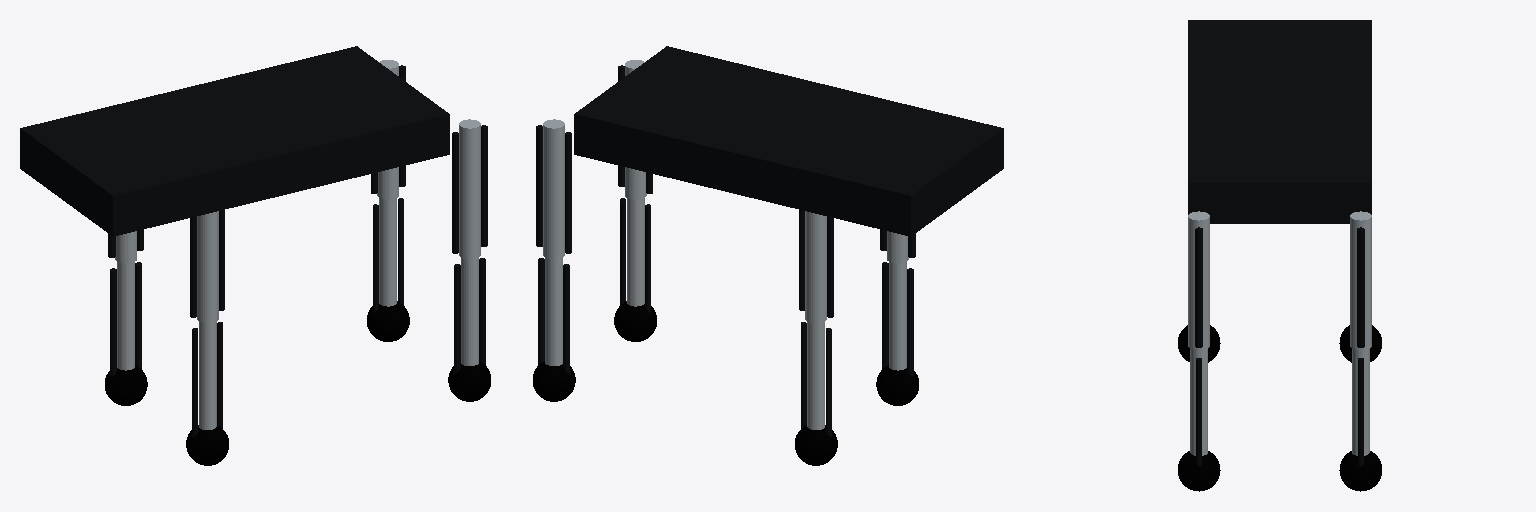
URDF robot description (domino_quadruped_clean):
<?xml version="1.0" ?>
<robot name="domino_quadruped_clean">
  <material name="domino_carbon">
    <color rgba="0.08 0.09 0.10 1.0"/>
  </material>
  <material name="domino_printed">
    <color rgba="0.65 0.68 0.70 1.0"/>
  </material>
  <material name="domino_joint">
    <color rgba="0.15 0.28 0.42 1.0"/>
  </material>
  <material name="domino_foot">
    <color rgba="0.02 0.02 0.02 1.0"/>
  </material>
  <link name="base_link">
    <inertial>
      <origin xyz="0.000000 0.000000 0.000000" rpy="0 0 0"/>
      <mass value="1.200000"/>
      <inertia ixx="0.01000000" ixy="0" ixz="0" iyy="0.02000000" iyz="0" izz="0.02500000"/>
    </inertial>
    <visual>
      <origin xyz="0.000000 0.000000 0.000000" rpy="0 0 0"/>
      <geometry>
        <box size="0.430000 0.205000 0.050000"/>
      </geometry>
      <material name="domino_carbon"/>
    </visual>
    <collision>
      <origin xyz="0.000000 0.000000 0.000000" rpy="0 0 0"/>
      <geometry>
        <box size="0.430000 0.205000 0.050000"/>
      </geometry>
    </collision>
  </link>
  <link name="dom_p_4_1_hip_carriage">
    <inertial>
      <origin xyz="0.000000 0.000000 -0.010000" rpy="0 0 0"/>
      <mass value="0.100000"/>
      <inertia ixx="0.00040000" ixy="0" ixz="0" iyy="0.00040000" iyz="0" izz="0.00040000"/>
    </inertial>
    <visual>
      <origin xyz="0.000000 0.000000 -0.010000" rpy="0 0 0"/>
      <geometry>
        <box size="0.060000 0.055000 0.030000"/>
      </geometry>
      <material name="domino_joint"/>
    </visual>
    <collision>
      <origin xyz="0.000000 0.000000 -0.010000" rpy="0 0 0"/>
      <geometry>
        <box size="0.060000 0.055000 0.030000"/>
      </geometry>
    </collision>
  </link>
  <link name="dom_p_4_1_upper_link">
    <inertial>
      <origin xyz="0.000000 0.000000 -0.080000" rpy="0 0 0"/>
      <mass value="0.120000"/>
      <inertia ixx="0.00050000" ixy="0" ixz="0" iyy="0.00050000" iyz="0" izz="0.00008000"/>
    </inertial>
    <visual>
      <origin xyz="0.000000 0.000000 -0.080000" rpy="0 0 0"/>
      <geometry>
        <cylinder radius="0.012000" length="0.160000"/>
      </geometry>
      <material name="domino_printed"/>
    </visual>
    <visual>
      <origin xyz="0.018000 0.000000 -0.080000" rpy="0 0 0"/>
      <geometry>
        <cylinder radius="0.004000" length="0.145000"/>
      </geometry>
      <material name="domino_carbon"/>
    </visual>
    <visual>
      <origin xyz="-0.018000 0.000000 -0.080000" rpy="0 0 0"/>
      <geometry>
        <cylinder radius="0.004000" length="0.145000"/>
      </geometry>
      <material name="domino_carbon"/>
    </visual>
    <collision>
      <origin xyz="0.000000 0.000000 -0.080000" rpy="0 0 0"/>
      <geometry>
        <cylinder radius="0.014000" length="0.160000"/>
      </geometry>
    </collision>
  </link>
  <link name="dom_p_4_1_lower_link">
    <inertial>
      <origin xyz="0.000000 0.000000 -0.076500" rpy="0 0 0"/>
      <mass value="0.100000"/>
      <inertia ixx="0.00040000" ixy="0" ixz="0" iyy="0.00040000" iyz="0" izz="0.00006000"/>
    </inertial>
    <visual>
      <origin xyz="0.000000 0.000000 -0.076500" rpy="0 0 0"/>
      <geometry>
        <cylinder radius="0.010000" length="0.153000"/>
      </geometry>
      <material name="domino_printed"/>
    </visual>
    <visual>
      <origin xyz="0.016000 0.000000 -0.076500" rpy="0 0 0"/>
      <geometry>
        <cylinder radius="0.003500" length="0.135000"/>
      </geometry>
      <material name="domino_carbon"/>
    </visual>
    <visual>
      <origin xyz="-0.016000 0.000000 -0.076500" rpy="0 0 0"/>
      <geometry>
        <cylinder radius="0.003500" length="0.135000"/>
      </geometry>
      <material name="domino_carbon"/>
    </visual>
    <collision>
      <origin xyz="0.000000 0.000000 -0.076500" rpy="0 0 0"/>
      <geometry>
        <cylinder radius="0.012000" length="0.153000"/>
      </geometry>
    </collision>
  </link>
  <link name="dom_p_4_1_foot">
    <inertial>
      <origin xyz="0.000000 0.000000 0.000000" rpy="0 0 0"/>
      <mass value="0.030000"/>
      <inertia ixx="0.00004000" ixy="0" ixz="0" iyy="0.00004000" iyz="0" izz="0.00004000"/>
    </inertial>
    <visual>
      <origin xyz="0.000000 0.000000 0.000000" rpy="0 0 0"/>
      <geometry>
        <sphere radius="0.024000"/>
      </geometry>
      <material name="domino_foot"/>
    </visual>
    <collision>
      <origin xyz="0.000000 0.000000 0.000000" rpy="0 0 0"/>
      <geometry>
        <sphere radius="0.024000"/>
      </geometry>
    </collision>
  </link>
  <joint name="dom_p_4_1_shoulder_ab_ad" type="revolute">
    <origin xyz="0.167500 -0.062375 0.000000" rpy="0 0 0"/>
    <parent link="base_link"/>
    <child link="dom_p_4_1_hip_carriage"/>
    <axis xyz="-1.000000 0.000000 0.000000"/>
    <limit lower="-0.523599" upper="0.523599" effort="8.0" velocity="6.0"/>
    <dynamics damping="0.05" friction="0.0"/>
  </joint>
  <joint name="dom_p_4_1_upper_pitch" type="revolute">
    <origin xyz="0.080500 -0.028000 0.000000" rpy="0 0 0"/>
    <parent link="dom_p_4_1_hip_carriage"/>
    <child link="dom_p_4_1_upper_link"/>
    <axis xyz="0.000000 1.000000 0.000000"/>
    <limit lower="-0.523599" upper="1.047198" effort="8.0" velocity="6.0"/>
    <dynamics damping="0.05" friction="0.0"/>
  </joint>
  <joint name="dom_p_4_1_lower_linkage" type="revolute">
    <origin xyz="0.000000 0.000000 -0.160000" rpy="0 0 0"/>
    <parent link="dom_p_4_1_upper_link"/>
    <child link="dom_p_4_1_lower_link"/>
    <axis xyz="0.000000 1.000000 0.000000"/>
    <limit lower="-2.094395" upper="0.000000" effort="8.0" velocity="6.0"/>
    <dynamics damping="0.05" friction="0.0"/>
  </joint>
  <joint name="dom_p_4_1_foot_fixed" type="fixed">
    <origin xyz="0.000000 0.000000 -0.153000" rpy="0 0 0"/>
    <parent link="dom_p_4_1_lower_link"/>
    <child link="dom_p_4_1_foot"/>
  </joint>
  <link name="dom_p_12_1_hip_carriage">
    <inertial>
      <origin xyz="0.000000 0.000000 -0.010000" rpy="0 0 0"/>
      <mass value="0.100000"/>
      <inertia ixx="0.00040000" ixy="0" ixz="0" iyy="0.00040000" iyz="0" izz="0.00040000"/>
    </inertial>
    <visual>
      <origin xyz="0.000000 0.000000 -0.010000" rpy="0 0 0"/>
      <geometry>
        <box size="0.060000 0.055000 0.030000"/>
      </geometry>
      <material name="domino_joint"/>
    </visual>
    <collision>
      <origin xyz="0.000000 0.000000 -0.010000" rpy="0 0 0"/>
      <geometry>
        <box size="0.060000 0.055000 0.030000"/>
      </geometry>
    </collision>
  </link>
  <link name="dom_p_12_1_upper_link">
    <inertial>
      <origin xyz="0.000000 0.000000 -0.080000" rpy="0 0 0"/>
      <mass value="0.120000"/>
      <inertia ixx="0.00050000" ixy="0" ixz="0" iyy="0.00050000" iyz="0" izz="0.00008000"/>
    </inertial>
    <visual>
      <origin xyz="0.000000 0.000000 -0.080000" rpy="0 0 0"/>
      <geometry>
        <cylinder radius="0.012000" length="0.160000"/>
      </geometry>
      <material name="domino_printed"/>
    </visual>
    <visual>
      <origin xyz="0.018000 0.000000 -0.080000" rpy="0 0 0"/>
      <geometry>
        <cylinder radius="0.004000" length="0.145000"/>
      </geometry>
      <material name="domino_carbon"/>
    </visual>
    <visual>
      <origin xyz="-0.018000 0.000000 -0.080000" rpy="0 0 0"/>
      <geometry>
        <cylinder radius="0.004000" length="0.145000"/>
      </geometry>
      <material name="domino_carbon"/>
    </visual>
    <collision>
      <origin xyz="0.000000 0.000000 -0.080000" rpy="0 0 0"/>
      <geometry>
        <cylinder radius="0.014000" length="0.160000"/>
      </geometry>
    </collision>
  </link>
  <link name="dom_p_12_1_lower_link">
    <inertial>
      <origin xyz="0.000000 0.000000 -0.076500" rpy="0 0 0"/>
      <mass value="0.100000"/>
      <inertia ixx="0.00040000" ixy="0" ixz="0" iyy="0.00040000" iyz="0" izz="0.00006000"/>
    </inertial>
    <visual>
      <origin xyz="0.000000 0.000000 -0.076500" rpy="0 0 0"/>
      <geometry>
        <cylinder radius="0.010000" length="0.153000"/>
      </geometry>
      <material name="domino_printed"/>
    </visual>
    <visual>
      <origin xyz="0.016000 0.000000 -0.076500" rpy="0 0 0"/>
      <geometry>
        <cylinder radius="0.003500" length="0.135000"/>
      </geometry>
      <material name="domino_carbon"/>
    </visual>
    <visual>
      <origin xyz="-0.016000 0.000000 -0.076500" rpy="0 0 0"/>
      <geometry>
        <cylinder radius="0.003500" length="0.135000"/>
      </geometry>
      <material name="domino_carbon"/>
    </visual>
    <collision>
      <origin xyz="0.000000 0.000000 -0.076500" rpy="0 0 0"/>
      <geometry>
        <cylinder radius="0.012000" length="0.153000"/>
      </geometry>
    </collision>
  </link>
  <link name="dom_p_12_1_foot">
    <inertial>
      <origin xyz="0.000000 0.000000 0.000000" rpy="0 0 0"/>
      <mass value="0.030000"/>
      <inertia ixx="0.00004000" ixy="0" ixz="0" iyy="0.00004000" iyz="0" izz="0.00004000"/>
    </inertial>
    <visual>
      <origin xyz="0.000000 0.000000 0.000000" rpy="0 0 0"/>
      <geometry>
        <sphere radius="0.024000"/>
      </geometry>
      <material name="domino_foot"/>
    </visual>
    <collision>
      <origin xyz="0.000000 0.000000 0.000000" rpy="0 0 0"/>
      <geometry>
        <sphere radius="0.024000"/>
      </geometry>
    </collision>
  </link>
  <joint name="dom_p_12_1_shoulder_ab_ad" type="revolute">
    <origin xyz="0.167500 0.062375 0.000000" rpy="0 0 0"/>
    <parent link="base_link"/>
    <child link="dom_p_12_1_hip_carriage"/>
    <axis xyz="1.000000 0.000000 0.000000"/>
    <limit lower="-0.523599" upper="0.523599" effort="8.0" velocity="6.0"/>
    <dynamics damping="0.05" friction="0.0"/>
  </joint>
  <joint name="dom_p_12_1_upper_pitch" type="revolute">
    <origin xyz="0.080500 0.028000 0.000000" rpy="0 0 0"/>
    <parent link="dom_p_12_1_hip_carriage"/>
    <child link="dom_p_12_1_upper_link"/>
    <axis xyz="0.000000 1.000000 0.000000"/>
    <limit lower="-0.523599" upper="1.047198" effort="8.0" velocity="6.0"/>
    <dynamics damping="0.05" friction="0.0"/>
  </joint>
  <joint name="dom_p_12_1_lower_linkage" type="revolute">
    <origin xyz="0.000000 0.000000 -0.160000" rpy="0 0 0"/>
    <parent link="dom_p_12_1_upper_link"/>
    <child link="dom_p_12_1_lower_link"/>
    <axis xyz="0.000000 1.000000 0.000000"/>
    <limit lower="-2.094395" upper="0.000000" effort="8.0" velocity="6.0"/>
    <dynamics damping="0.05" friction="0.0"/>
  </joint>
  <joint name="dom_p_12_1_foot_fixed" type="fixed">
    <origin xyz="0.000000 0.000000 -0.153000" rpy="0 0 0"/>
    <parent link="dom_p_12_1_lower_link"/>
    <child link="dom_p_12_1_foot"/>
  </joint>
  <link name="dom_p_25_1_hip_carriage">
    <inertial>
      <origin xyz="0.000000 0.000000 -0.010000" rpy="0 0 0"/>
      <mass value="0.100000"/>
      <inertia ixx="0.00040000" ixy="0" ixz="0" iyy="0.00040000" iyz="0" izz="0.00040000"/>
    </inertial>
    <visual>
      <origin xyz="0.000000 0.000000 -0.010000" rpy="0 0 0"/>
      <geometry>
        <box size="0.060000 0.055000 0.030000"/>
      </geometry>
      <material name="domino_joint"/>
    </visual>
    <collision>
      <origin xyz="0.000000 0.000000 -0.010000" rpy="0 0 0"/>
      <geometry>
        <box size="0.060000 0.055000 0.030000"/>
      </geometry>
    </collision>
  </link>
  <link name="dom_p_25_1_upper_link">
    <inertial>
      <origin xyz="0.000000 0.000000 -0.080000" rpy="0 0 0"/>
      <mass value="0.120000"/>
      <inertia ixx="0.00050000" ixy="0" ixz="0" iyy="0.00050000" iyz="0" izz="0.00008000"/>
    </inertial>
    <visual>
      <origin xyz="0.000000 0.000000 -0.080000" rpy="0 0 0"/>
      <geometry>
        <cylinder radius="0.012000" length="0.160000"/>
      </geometry>
      <material name="domino_printed"/>
    </visual>
    <visual>
      <origin xyz="0.018000 0.000000 -0.080000" rpy="0 0 0"/>
      <geometry>
        <cylinder radius="0.004000" length="0.145000"/>
      </geometry>
      <material name="domino_carbon"/>
    </visual>
    <visual>
      <origin xyz="-0.018000 0.000000 -0.080000" rpy="0 0 0"/>
      <geometry>
        <cylinder radius="0.004000" length="0.145000"/>
      </geometry>
      <material name="domino_carbon"/>
    </visual>
    <collision>
      <origin xyz="0.000000 0.000000 -0.080000" rpy="0 0 0"/>
      <geometry>
        <cylinder radius="0.014000" length="0.160000"/>
      </geometry>
    </collision>
  </link>
  <link name="dom_p_25_1_lower_link">
    <inertial>
      <origin xyz="0.000000 0.000000 -0.076500" rpy="0 0 0"/>
      <mass value="0.100000"/>
      <inertia ixx="0.00040000" ixy="0" ixz="0" iyy="0.00040000" iyz="0" izz="0.00006000"/>
    </inertial>
    <visual>
      <origin xyz="0.000000 0.000000 -0.076500" rpy="0 0 0"/>
      <geometry>
        <cylinder radius="0.010000" length="0.153000"/>
      </geometry>
      <material name="domino_printed"/>
    </visual>
    <visual>
      <origin xyz="0.016000 0.000000 -0.076500" rpy="0 0 0"/>
      <geometry>
        <cylinder radius="0.003500" length="0.135000"/>
      </geometry>
      <material name="domino_carbon"/>
    </visual>
    <visual>
      <origin xyz="-0.016000 0.000000 -0.076500" rpy="0 0 0"/>
      <geometry>
        <cylinder radius="0.003500" length="0.135000"/>
      </geometry>
      <material name="domino_carbon"/>
    </visual>
    <collision>
      <origin xyz="0.000000 0.000000 -0.076500" rpy="0 0 0"/>
      <geometry>
        <cylinder radius="0.012000" length="0.153000"/>
      </geometry>
    </collision>
  </link>
  <link name="dom_p_25_1_foot">
    <inertial>
      <origin xyz="0.000000 0.000000 0.000000" rpy="0 0 0"/>
      <mass value="0.030000"/>
      <inertia ixx="0.00004000" ixy="0" ixz="0" iyy="0.00004000" iyz="0" izz="0.00004000"/>
    </inertial>
    <visual>
      <origin xyz="0.000000 0.000000 0.000000" rpy="0 0 0"/>
      <geometry>
        <sphere radius="0.024000"/>
      </geometry>
      <material name="domino_foot"/>
    </visual>
    <collision>
      <origin xyz="0.000000 0.000000 0.000000" rpy="0 0 0"/>
      <geometry>
        <sphere radius="0.024000"/>
      </geometry>
    </collision>
  </link>
  <joint name="dom_p_25_1_shoulder_ab_ad" type="revolute">
    <origin xyz="-0.167500 0.062375 0.000000" rpy="0 0 0"/>
    <parent link="base_link"/>
    <child link="dom_p_25_1_hip_carriage"/>
    <axis xyz="1.000000 0.000000 0.000000"/>
    <limit lower="-0.523599" upper="0.523599" effort="8.0" velocity="6.0"/>
    <dynamics damping="0.05" friction="0.0"/>
  </joint>
  <joint name="dom_p_25_1_upper_pitch" type="revolute">
    <origin xyz="0.080500 0.028000 0.000000" rpy="0 0 0"/>
    <parent link="dom_p_25_1_hip_carriage"/>
    <child link="dom_p_25_1_upper_link"/>
    <axis xyz="0.000000 1.000000 0.000000"/>
    <limit lower="-0.523599" upper="1.047198" effort="8.0" velocity="6.0"/>
    <dynamics damping="0.05" friction="0.0"/>
  </joint>
  <joint name="dom_p_25_1_lower_linkage" type="revolute">
    <origin xyz="0.000000 0.000000 -0.160000" rpy="0 0 0"/>
    <parent link="dom_p_25_1_upper_link"/>
    <child link="dom_p_25_1_lower_link"/>
    <axis xyz="0.000000 1.000000 0.000000"/>
    <limit lower="-2.094395" upper="0.000000" effort="8.0" velocity="6.0"/>
    <dynamics damping="0.05" friction="0.0"/>
  </joint>
  <joint name="dom_p_25_1_foot_fixed" type="fixed">
    <origin xyz="0.000000 0.000000 -0.153000" rpy="0 0 0"/>
    <parent link="dom_p_25_1_lower_link"/>
    <child link="dom_p_25_1_foot"/>
  </joint>
  <link name="dom_p_21_1_hip_carriage">
    <inertial>
      <origin xyz="0.000000 0.000000 -0.010000" rpy="0 0 0"/>
      <mass value="0.100000"/>
      <inertia ixx="0.00040000" ixy="0" ixz="0" iyy="0.00040000" iyz="0" izz="0.00040000"/>
    </inertial>
    <visual>
      <origin xyz="0.000000 0.000000 -0.010000" rpy="0 0 0"/>
      <geometry>
        <box size="0.060000 0.055000 0.030000"/>
      </geometry>
      <material name="domino_joint"/>
    </visual>
    <collision>
      <origin xyz="0.000000 0.000000 -0.010000" rpy="0 0 0"/>
      <geometry>
        <box size="0.060000 0.055000 0.030000"/>
      </geometry>
    </collision>
  </link>
  <link name="dom_p_21_1_upper_link">
    <inertial>
      <origin xyz="0.000000 0.000000 -0.080000" rpy="0 0 0"/>
      <mass value="0.120000"/>
      <inertia ixx="0.00050000" ixy="0" ixz="0" iyy="0.00050000" iyz="0" izz="0.00008000"/>
    </inertial>
    <visual>
      <origin xyz="0.000000 0.000000 -0.080000" rpy="0 0 0"/>
      <geometry>
        <cylinder radius="0.012000" length="0.160000"/>
      </geometry>
      <material name="domino_printed"/>
    </visual>
    <visual>
      <origin xyz="0.018000 0.000000 -0.080000" rpy="0 0 0"/>
      <geometry>
        <cylinder radius="0.004000" length="0.145000"/>
      </geometry>
      <material name="domino_carbon"/>
    </visual>
    <visual>
      <origin xyz="-0.018000 0.000000 -0.080000" rpy="0 0 0"/>
      <geometry>
        <cylinder radius="0.004000" length="0.145000"/>
      </geometry>
      <material name="domino_carbon"/>
    </visual>
    <collision>
      <origin xyz="0.000000 0.000000 -0.080000" rpy="0 0 0"/>
      <geometry>
        <cylinder radius="0.014000" length="0.160000"/>
      </geometry>
    </collision>
  </link>
  <link name="dom_p_21_1_lower_link">
    <inertial>
      <origin xyz="0.000000 0.000000 -0.076500" rpy="0 0 0"/>
      <mass value="0.100000"/>
      <inertia ixx="0.00040000" ixy="0" ixz="0" iyy="0.00040000" iyz="0" izz="0.00006000"/>
    </inertial>
    <visual>
      <origin xyz="0.000000 0.000000 -0.076500" rpy="0 0 0"/>
      <geometry>
        <cylinder radius="0.010000" length="0.153000"/>
      </geometry>
      <material name="domino_printed"/>
    </visual>
    <visual>
      <origin xyz="0.016000 0.000000 -0.076500" rpy="0 0 0"/>
      <geometry>
        <cylinder radius="0.003500" length="0.135000"/>
      </geometry>
      <material name="domino_carbon"/>
    </visual>
    <visual>
      <origin xyz="-0.016000 0.000000 -0.076500" rpy="0 0 0"/>
      <geometry>
        <cylinder radius="0.003500" length="0.135000"/>
      </geometry>
      <material name="domino_carbon"/>
    </visual>
    <collision>
      <origin xyz="0.000000 0.000000 -0.076500" rpy="0 0 0"/>
      <geometry>
        <cylinder radius="0.012000" length="0.153000"/>
      </geometry>
    </collision>
  </link>
  <link name="dom_p_21_1_foot">
    <inertial>
      <origin xyz="0.000000 0.000000 0.000000" rpy="0 0 0"/>
      <mass value="0.030000"/>
      <inertia ixx="0.00004000" ixy="0" ixz="0" iyy="0.00004000" iyz="0" izz="0.00004000"/>
    </inertial>
    <visual>
      <origin xyz="0.000000 0.000000 0.000000" rpy="0 0 0"/>
      <geometry>
        <sphere radius="0.024000"/>
      </geometry>
      <material name="domino_foot"/>
    </visual>
    <collision>
      <origin xyz="0.000000 0.000000 0.000000" rpy="0 0 0"/>
      <geometry>
        <sphere radius="0.024000"/>
      </geometry>
    </collision>
  </link>
  <joint name="dom_p_21_1_shoulder_ab_ad" type="revolute">
    <origin xyz="-0.167500 -0.062375 0.000000" rpy="0 0 0"/>
    <parent link="base_link"/>
    <child link="dom_p_21_1_hip_carriage"/>
    <axis xyz="-1.000000 0.000000 0.000000"/>
    <limit lower="-0.523599" upper="0.523599" effort="8.0" velocity="6.0"/>
    <dynamics damping="0.05" friction="0.0"/>
  </joint>
  <joint name="dom_p_21_1_upper_pitch" type="revolute">
    <origin xyz="0.080500 -0.028000 0.000000" rpy="0 0 0"/>
    <parent link="dom_p_21_1_hip_carriage"/>
    <child link="dom_p_21_1_upper_link"/>
    <axis xyz="0.000000 1.000000 0.000000"/>
    <limit lower="-0.523599" upper="1.047198" effort="8.0" velocity="6.0"/>
    <dynamics damping="0.05" friction="0.0"/>
  </joint>
  <joint name="dom_p_21_1_lower_linkage" type="revolute">
    <origin xyz="0.000000 0.000000 -0.160000" rpy="0 0 0"/>
    <parent link="dom_p_21_1_upper_link"/>
    <child link="dom_p_21_1_lower_link"/>
    <axis xyz="0.000000 1.000000 0.000000"/>
    <limit lower="-0.523599" upper="1.570796" effort="8.0" velocity="6.0"/>
    <dynamics damping="0.05" friction="0.0"/>
  </joint>
  <joint name="dom_p_21_1_foot_fixed" type="fixed">
    <origin xyz="0.000000 0.000000 -0.153000" rpy="0 0 0"/>
    <parent link="dom_p_21_1_lower_link"/>
    <child link="dom_p_21_1_foot"/>
  </joint>
</robot>

--- Facts derived from the render (not from the file) ---
The picture shows the robot from 3 angles, left to right: view 1: azimuth 30°, elevation 25°; view 2: azimuth 150°, elevation 25°; view 3: azimuth 270°, elevation 25°; orthographic projection.
Robot: domino_quadruped_clean — 17 links, 16 joints (12 revolute, 4 fixed); root link base_link; default pose: all joints at 0.
Links seen in each view (by area): view 1: base_link, dom_p_4_1_upper_link, dom_p_21_1_upper_link, dom_p_4_1_lower_link, dom_p_25_1_lower_link, dom_p_21_1_lower_link, dom_p_12_1_lower_link, dom_p_12_1_foot, dom_p_21_1_foot, dom_p_25_1_foot, dom_p_4_1_foot, dom_p_12_1_upper_link (+1 smaller); view 2: base_link, dom_p_12_1_upper_link, dom_p_25_1_upper_link, dom_p_12_1_lower_link, dom_p_21_1_lower_link, dom_p_25_1_lower_link, dom_p_4_1_lower_link, dom_p_4_1_foot, dom_p_25_1_foot, dom_p_21_1_foot, dom_p_12_1_foot, dom_p_4_1_upper_link (+1 smaller); view 3: base_link, dom_p_4_1_upper_link, dom_p_12_1_upper_link, dom_p_4_1_lower_link, dom_p_12_1_lower_link, dom_p_4_1_foot, dom_p_12_1_foot, dom_p_25_1_foot, dom_p_21_1_foot.
Boxes of the visible links, x1,y1,x2,y2 form: base_link: (20, 46, 449, 236); dom_p_4_1_upper_link: (452, 119, 487, 259); dom_p_21_1_upper_link: (190, 210, 224, 323); dom_p_4_1_lower_link: (454, 258, 485, 372); dom_p_25_1_lower_link: (110, 262, 141, 376); dom_p_21_1_lower_link: (192, 322, 222, 436); dom_p_12_1_lower_link: (373, 198, 403, 312); dom_p_12_1_foot: (367, 301, 409, 341); dom_p_21_1_foot: (186, 425, 228, 465); dom_p_25_1_foot: (105, 365, 147, 405); dom_p_4_1_foot: (448, 361, 490, 401); dom_p_12_1_upper_link: (371, 60, 405, 199); base_link: (574, 46, 1003, 236); dom_p_12_1_upper_link: (536, 119, 571, 259); dom_p_25_1_upper_link: (799, 210, 833, 323); dom_p_12_1_lower_link: (538, 258, 569, 372); dom_p_21_1_lower_link: (882, 262, 913, 376); dom_p_25_1_lower_link: (801, 322, 831, 436); dom_p_4_1_lower_link: (620, 198, 650, 312); dom_p_4_1_foot: (614, 301, 656, 341); dom_p_25_1_foot: (795, 425, 837, 465); dom_p_21_1_foot: (876, 365, 918, 405); dom_p_12_1_foot: (533, 361, 575, 401); dom_p_4_1_upper_link: (618, 60, 652, 199); base_link: (1188, 20, 1371, 223); dom_p_4_1_upper_link: (1188, 211, 1209, 349); dom_p_12_1_upper_link: (1350, 211, 1371, 349); dom_p_4_1_lower_link: (1190, 349, 1207, 465); dom_p_12_1_lower_link: (1352, 349, 1369, 465); dom_p_4_1_foot: (1178, 451, 1220, 491); dom_p_12_1_foot: (1339, 451, 1381, 491); dom_p_25_1_foot: (1339, 325, 1381, 362); dom_p_21_1_foot: (1178, 325, 1220, 362).
Size in the robot's own frame: 0.487 by 0.2288 by 0.362 metres.
Geometry: primitives only (box / cylinder / sphere), no mesh files.
